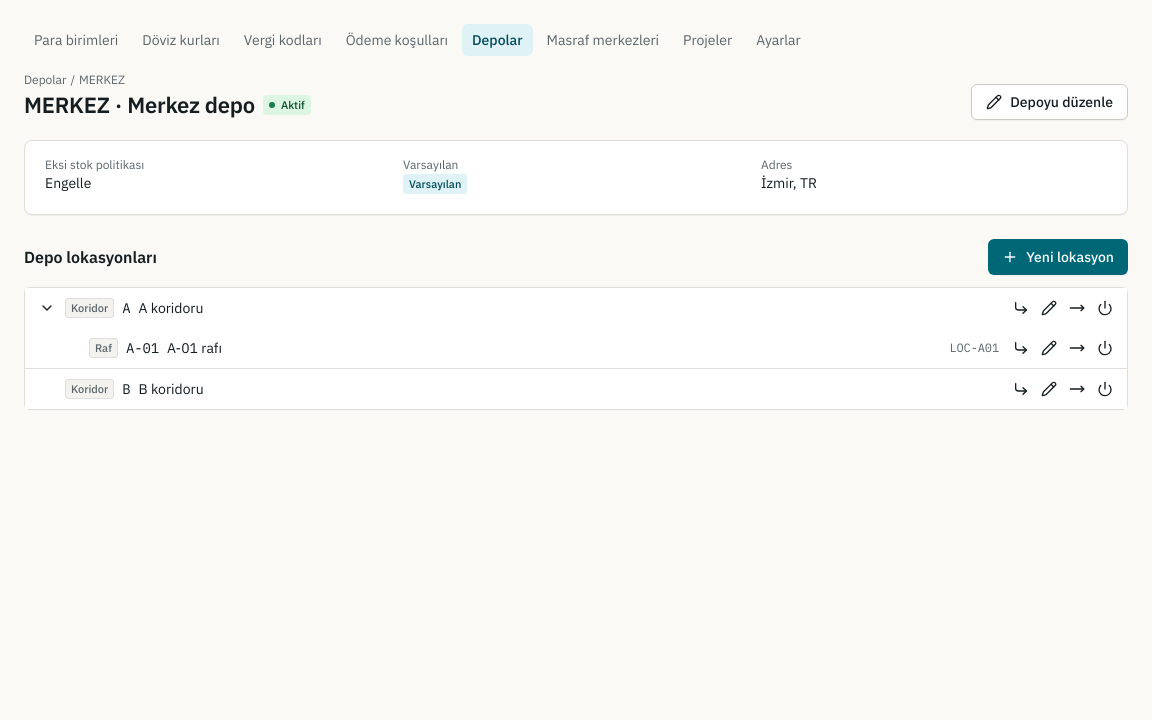
WarehouseDetailPage › moves a location to another parent without offering its own subtree
Click the button named "A koridoru lokasyonunu taşı".
click(1077, 308)  # box [1063,294,1091,322]
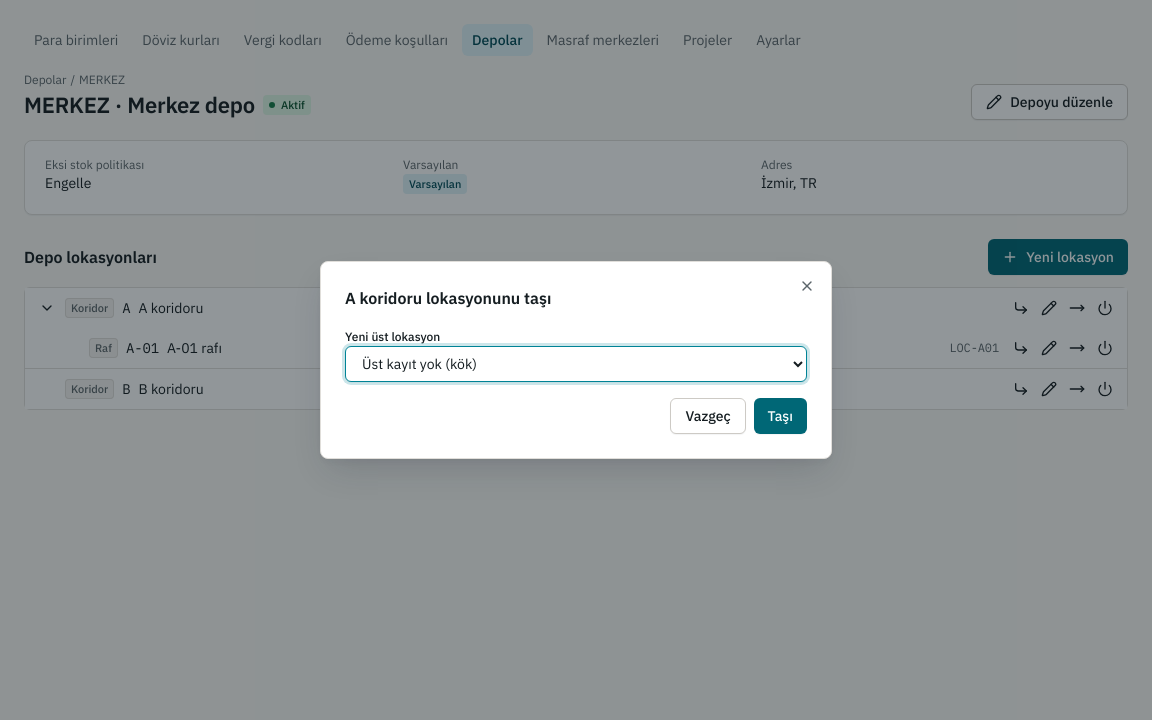
Select "B · B koridoru" in the dropdown labelled "Yeni üst lokasyon" at (576, 364), box [345,346,807,382]
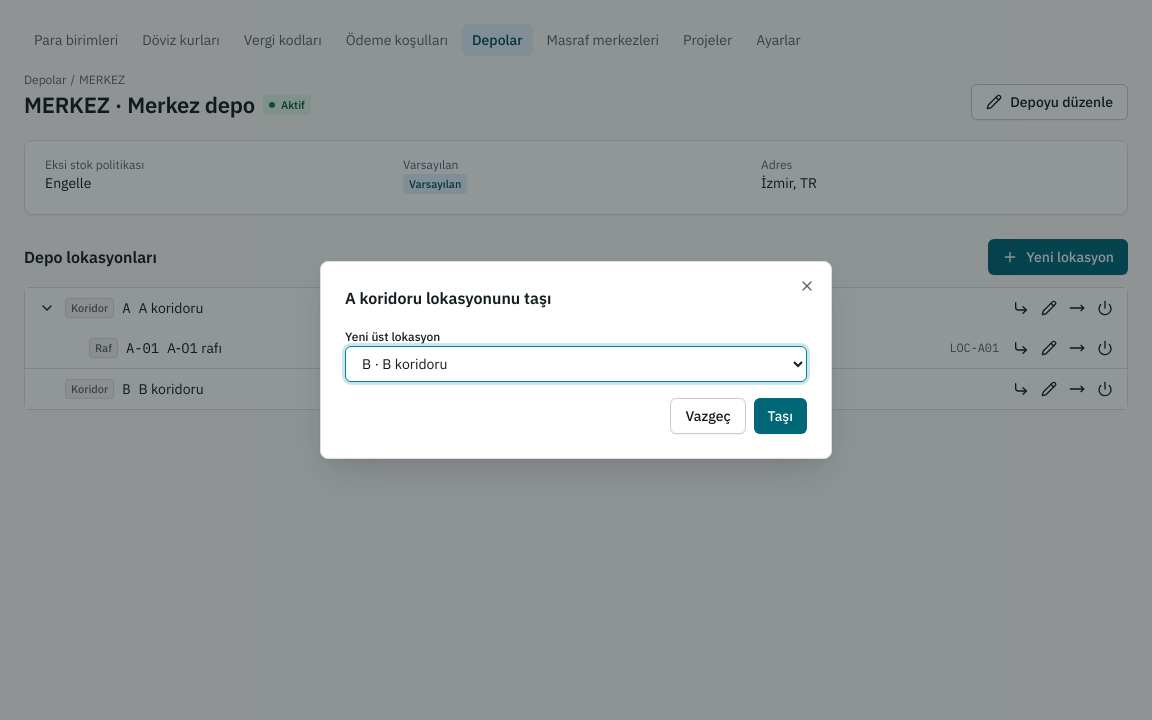
Click the button "Taşı".
click(780, 416)  # box [754,398,807,434]
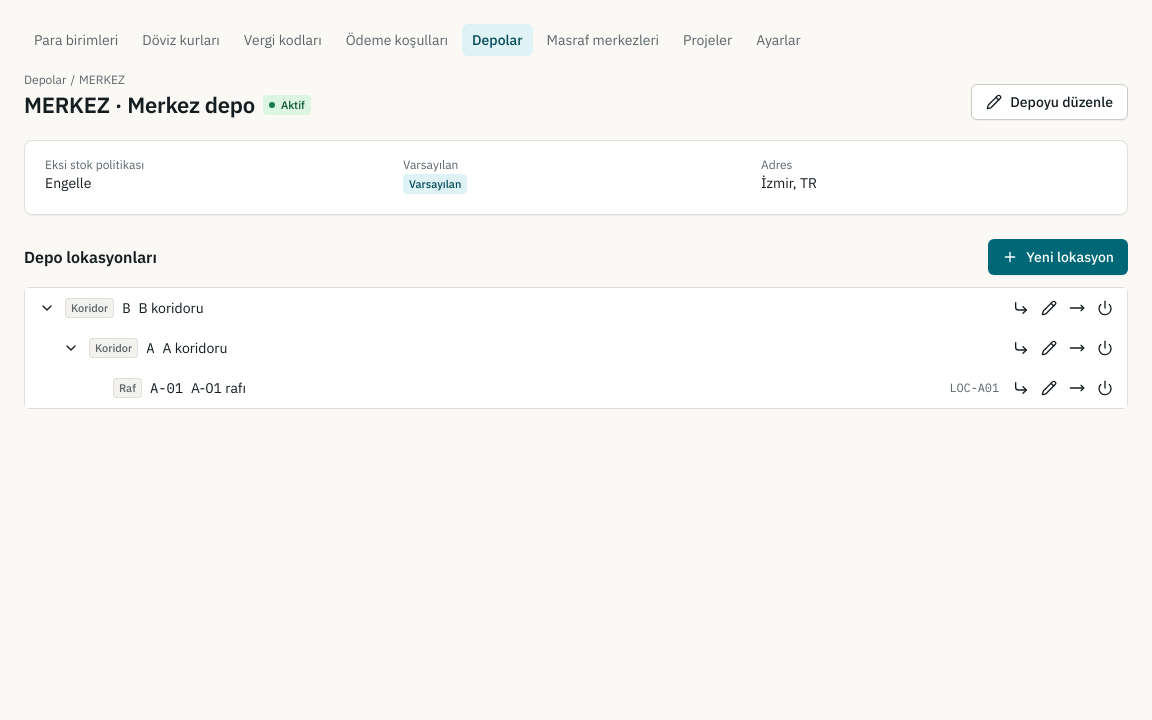
Expected: the dialog is gone
